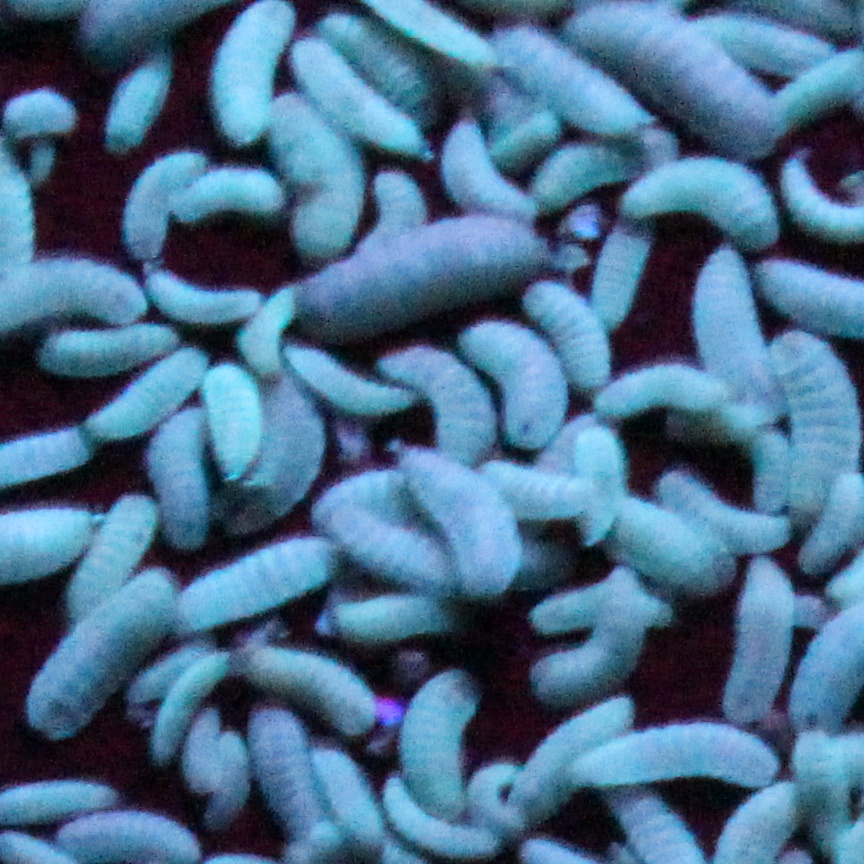larve: (555, 18, 788, 156), (296, 219, 540, 323), (19, 573, 165, 735), (472, 30, 654, 135), (757, 336, 864, 512), (392, 447, 512, 588), (262, 101, 365, 260), (226, 364, 317, 529), (696, 250, 788, 412), (175, 535, 330, 629), (710, 561, 791, 735), (520, 699, 630, 827), (310, 2, 438, 109), (620, 158, 781, 242), (572, 716, 781, 778), (241, 729, 346, 852), (62, 499, 162, 625), (464, 319, 561, 447), (86, 336, 205, 440), (362, 2, 505, 88), (374, 772, 507, 863), (376, 351, 493, 454), (538, 584, 653, 688), (240, 643, 365, 729), (402, 671, 476, 812), (591, 494, 716, 577), (148, 640, 227, 767), (216, 1, 281, 150), (517, 281, 609, 384), (426, 120, 522, 218), (282, 347, 407, 415), (330, 512, 443, 587), (185, 364, 264, 471), (660, 478, 784, 543), (592, 361, 729, 419), (471, 458, 595, 522), (50, 812, 207, 862), (307, 742, 374, 855), (127, 150, 191, 267), (785, 735, 851, 847), (153, 412, 207, 547), (692, 19, 822, 74), (107, 56, 172, 156), (534, 137, 622, 202), (146, 270, 257, 320), (40, 329, 172, 370), (779, 54, 861, 119), (526, 585, 676, 620), (593, 225, 647, 322), (174, 171, 282, 219), (307, 467, 412, 515), (574, 430, 613, 546), (322, 594, 444, 630), (215, 725, 237, 844)
